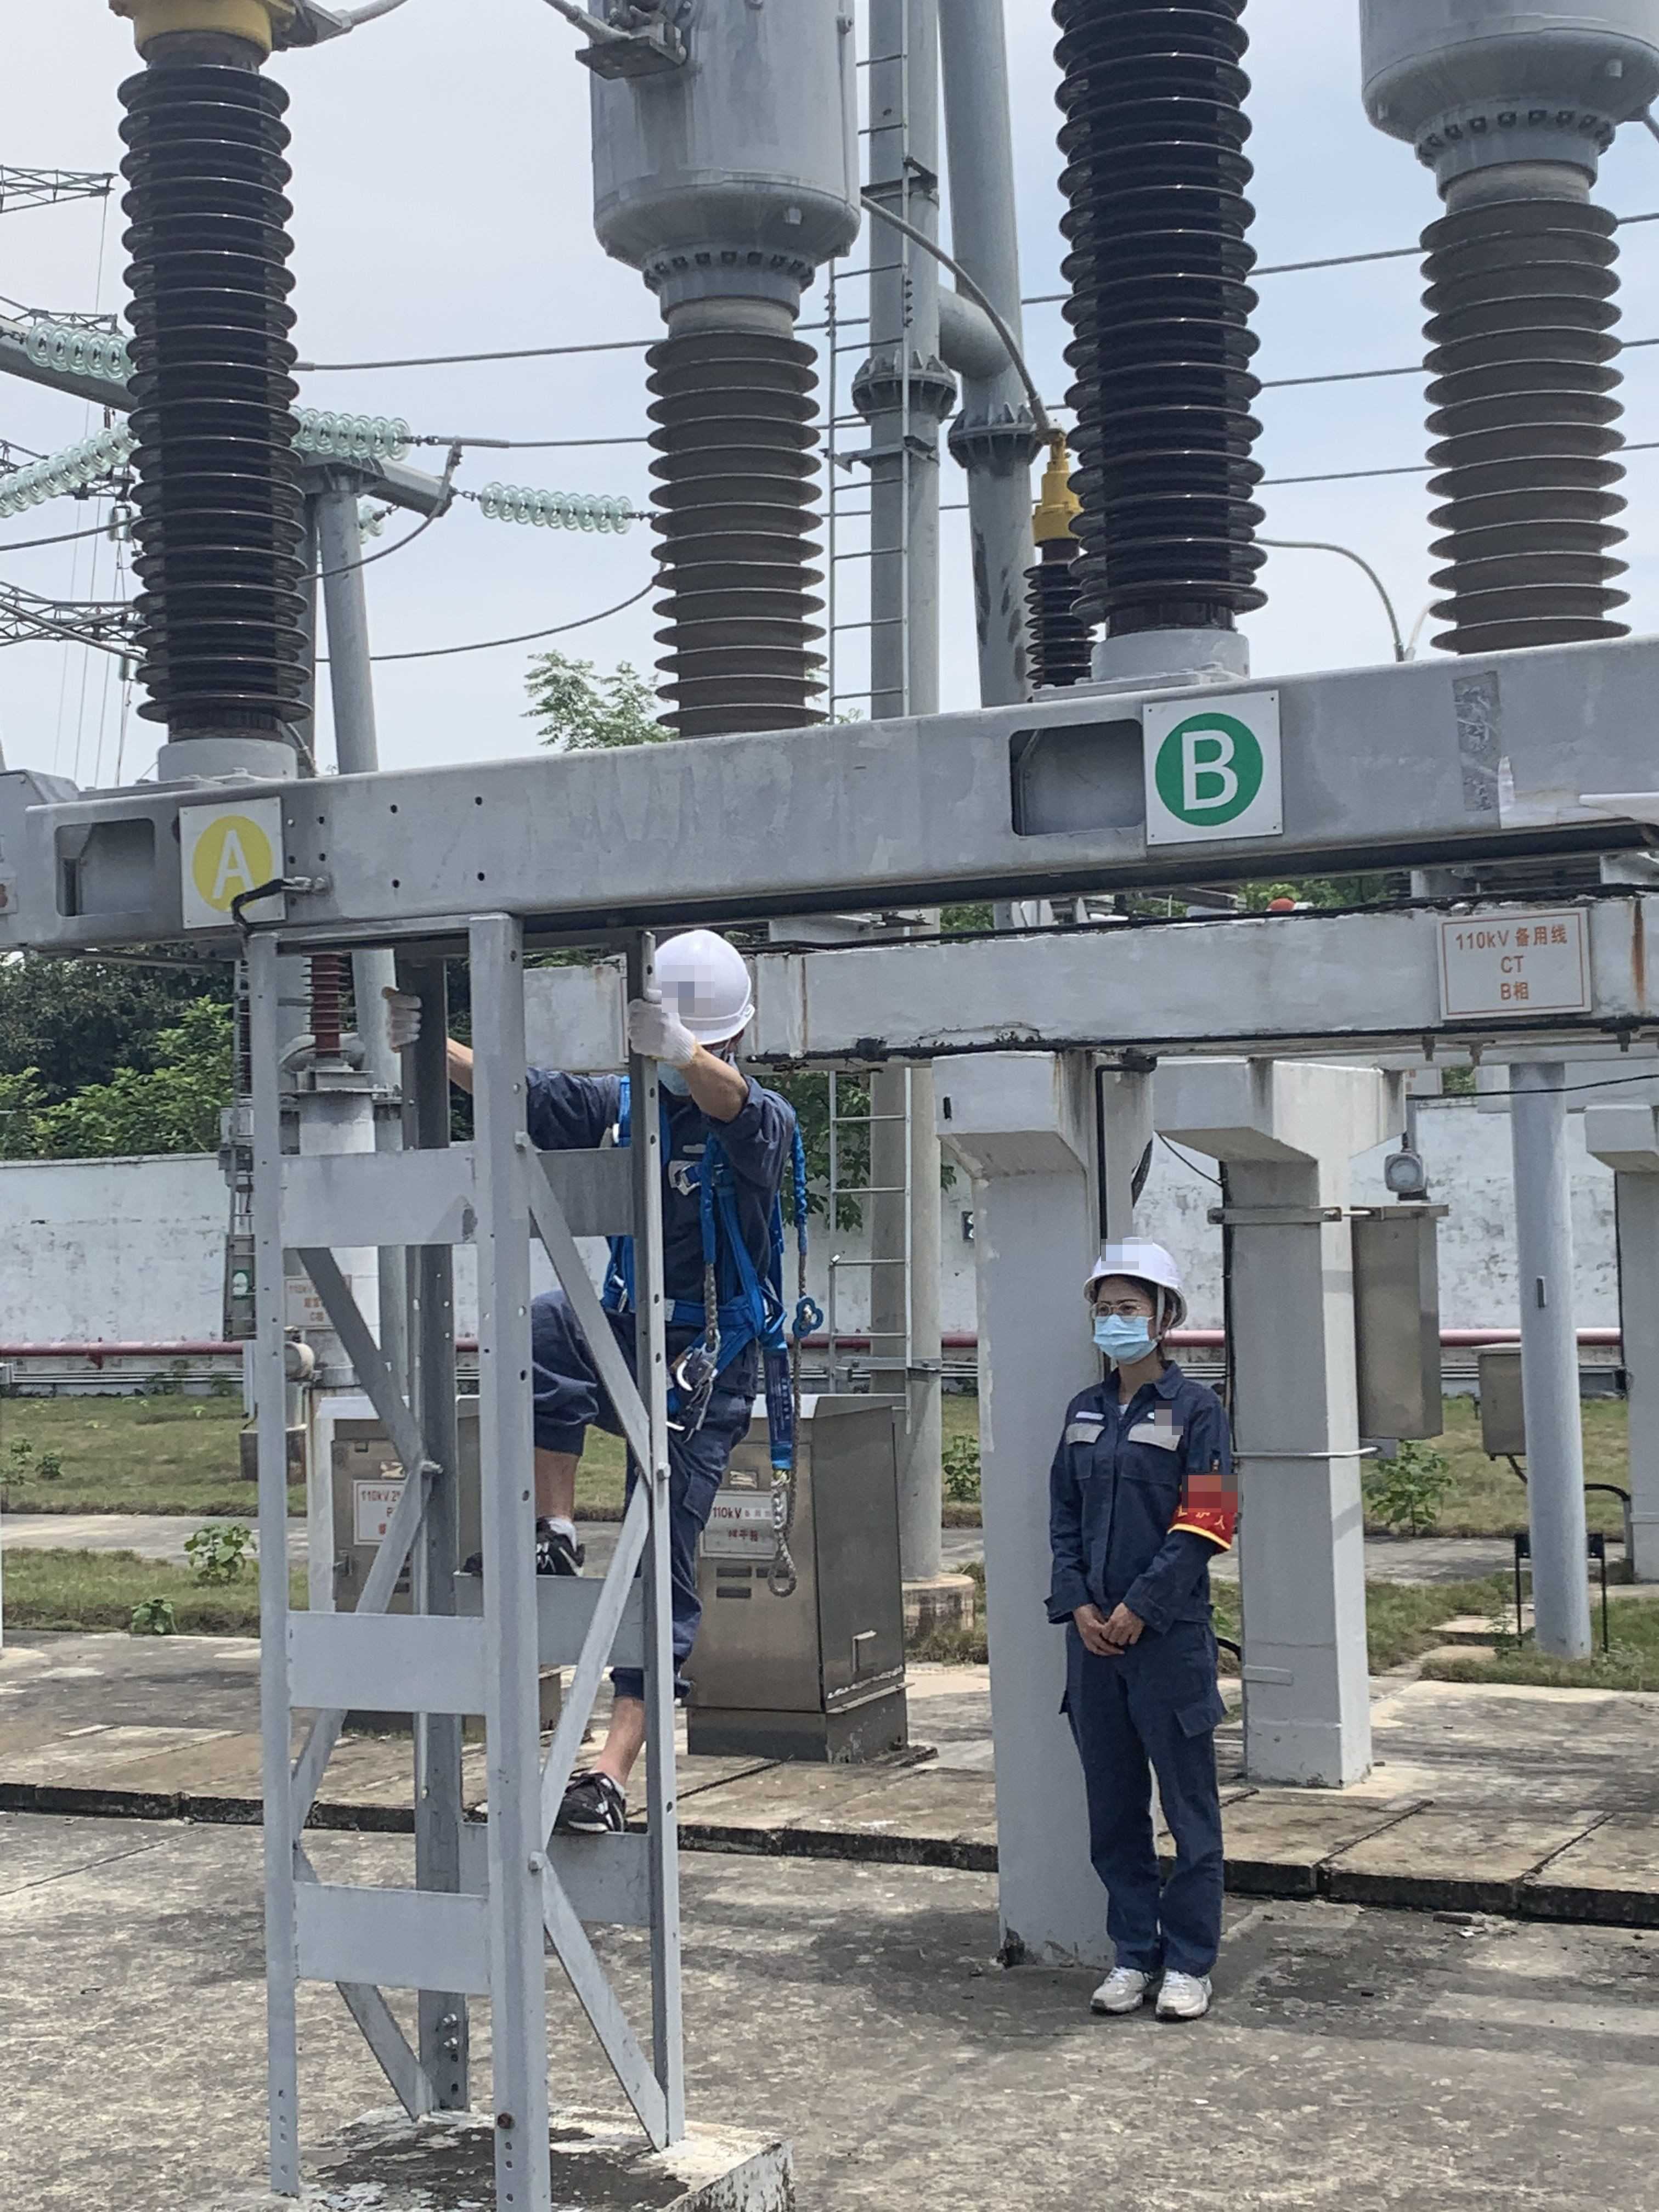downsuit: (530, 1303, 772, 1679), (1058, 1639, 1223, 1975)
upsuit: (518, 1047, 796, 1343), (1053, 1378, 1225, 1627)
wrongbottom: (589, 1665, 660, 1784), (530, 1416, 592, 1545)
wrongtop: (678, 1031, 765, 1141)
